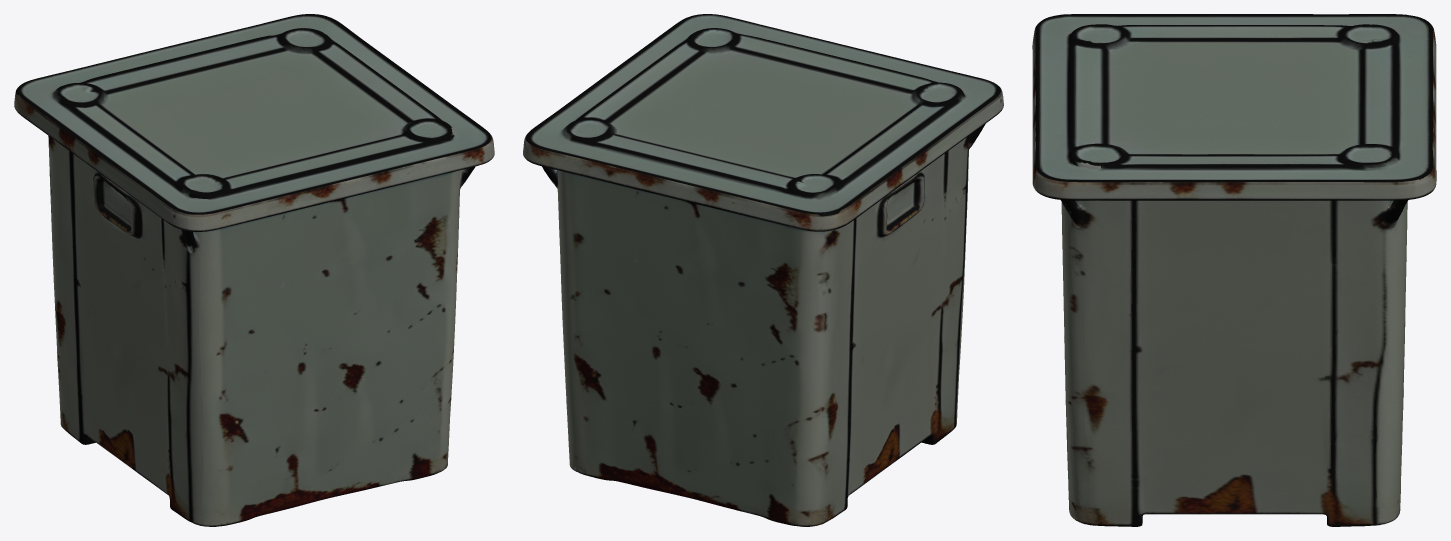
The model's file is street-bin.glb.
3 views of the same model, side by side, from view 1: azimuth 30°, elevation 25°; view 2: azimuth 150°, elevation 25°; view 3: azimuth 270°, elevation 25° (orthographic). The views are drawn at different scales.
Visible parts, largest first — view 1: tmp12c8bzqb.ply; view 2: tmp12c8bzqb.ply; view 3: tmp12c8bzqb.ply.
Boxes of the visible parts, x1,y1,x2,y2 form: tmp12c8bzqb.ply: [14, 14, 494, 526]; tmp12c8bzqb.ply: [523, 14, 1003, 526]; tmp12c8bzqb.ply: [1032, 14, 1436, 526].
Bounding box in the file's own units: 1 × 1 × 1.
Materials: 1 (1 with a texture image).
